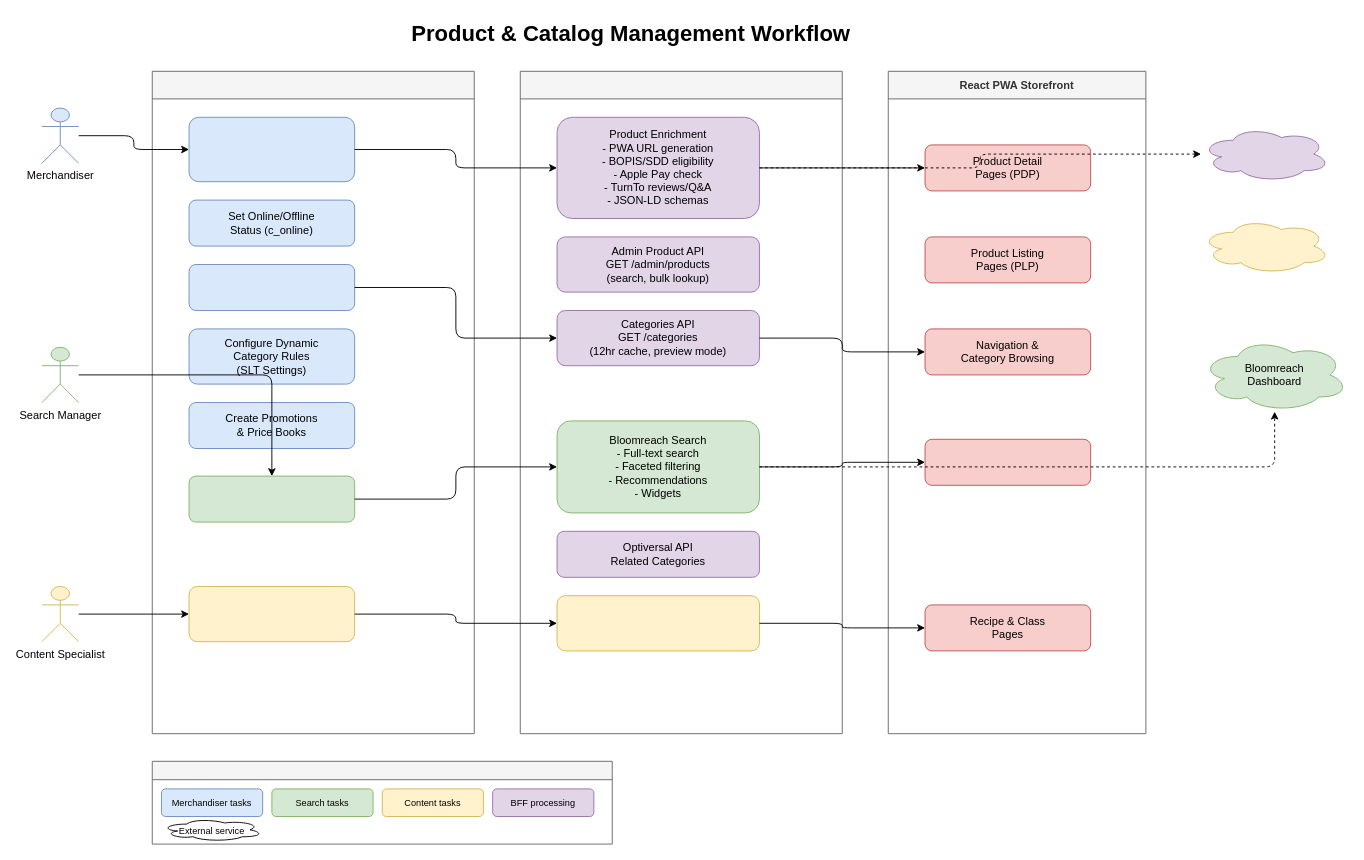
This 1364x860 diagram has some shape labels left out. Here are the shapes that lost their labels. From the top down, the box of each, then its label:
(188, 116, 355, 182): Edit Product Data (name, price, images, variants, attributes)
(1200, 126, 1330, 182): TurnTo (Reviews)
(1200, 218, 1330, 274): Extend (Warranties)
(188, 264, 355, 310): Manage Category Hierarchy & Assignment
(151, 70, 474, 734): SFCC Business Manager
(519, 70, 842, 734): BFF API Layer (NestJS)
(924, 438, 1091, 485): Search Results & Recommendations
(188, 475, 355, 522): Configure Search Indexes
(188, 586, 355, 642): Create Recipe / Culinary Class Products
(556, 595, 759, 651): Recipe API GET /recipes/:id (enrichment + recommendations)
(151, 760, 612, 844): Legend
